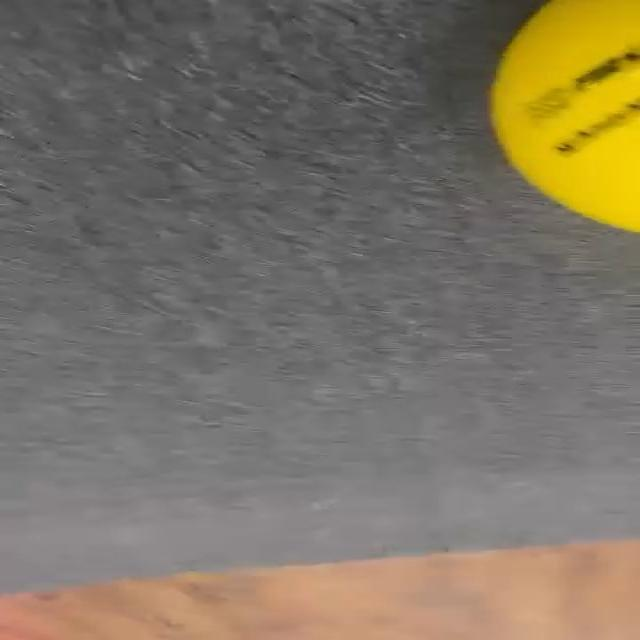Fuels: (489, 1, 640, 232)
